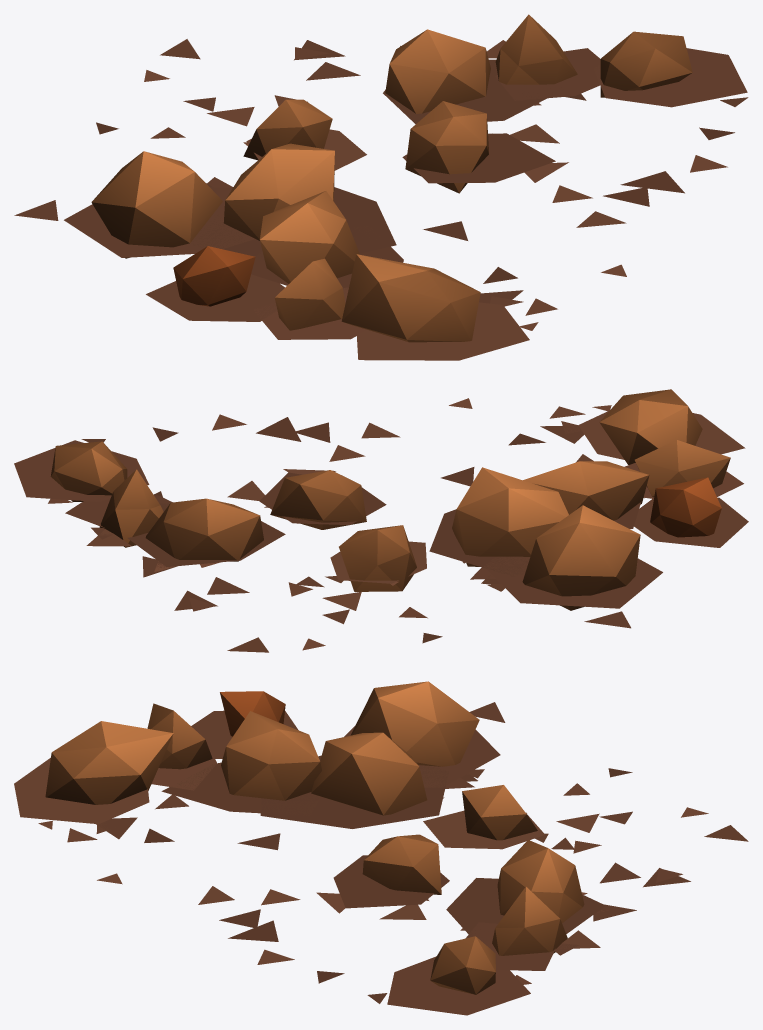
The model's file is copper-ore.glb.
3 renders of one model, top to bottom at view 1: azimuth 30°, elevation 25°; view 2: azimuth 150°, elevation 25°; view 3: azimuth 270°, elevation 25°, orthographic. The views are drawn at different scales.
Visible parts, largest first — view 1: copper-ore; view 2: copper-ore; view 3: copper-ore.
Part boxes in pixels (left/top/right/bottom): copper-ore: left=14, top=14, right=748, bottom=360; copper-ore: left=14, top=389, right=748, bottom=652; copper-ore: left=14, top=681, right=748, bottom=1015.
Size of the model in its own units: 1.48 by 0.1736 by 1.46.
